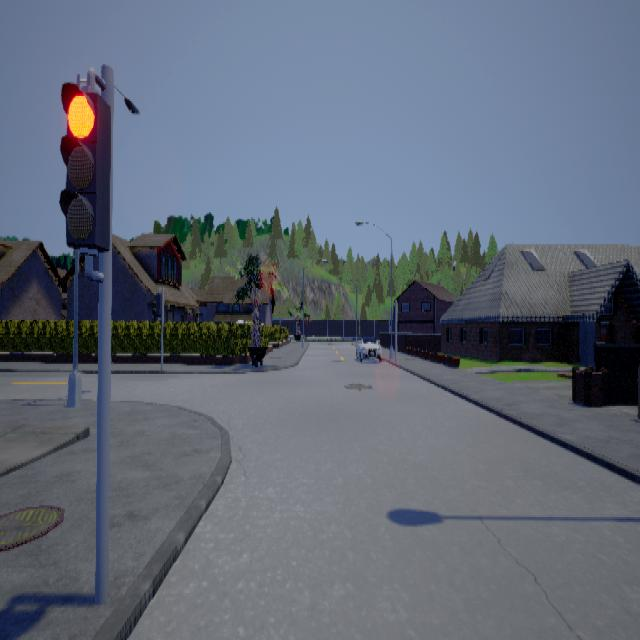red_light: (60, 66, 112, 281)
vehicle: (357, 335, 383, 361)
